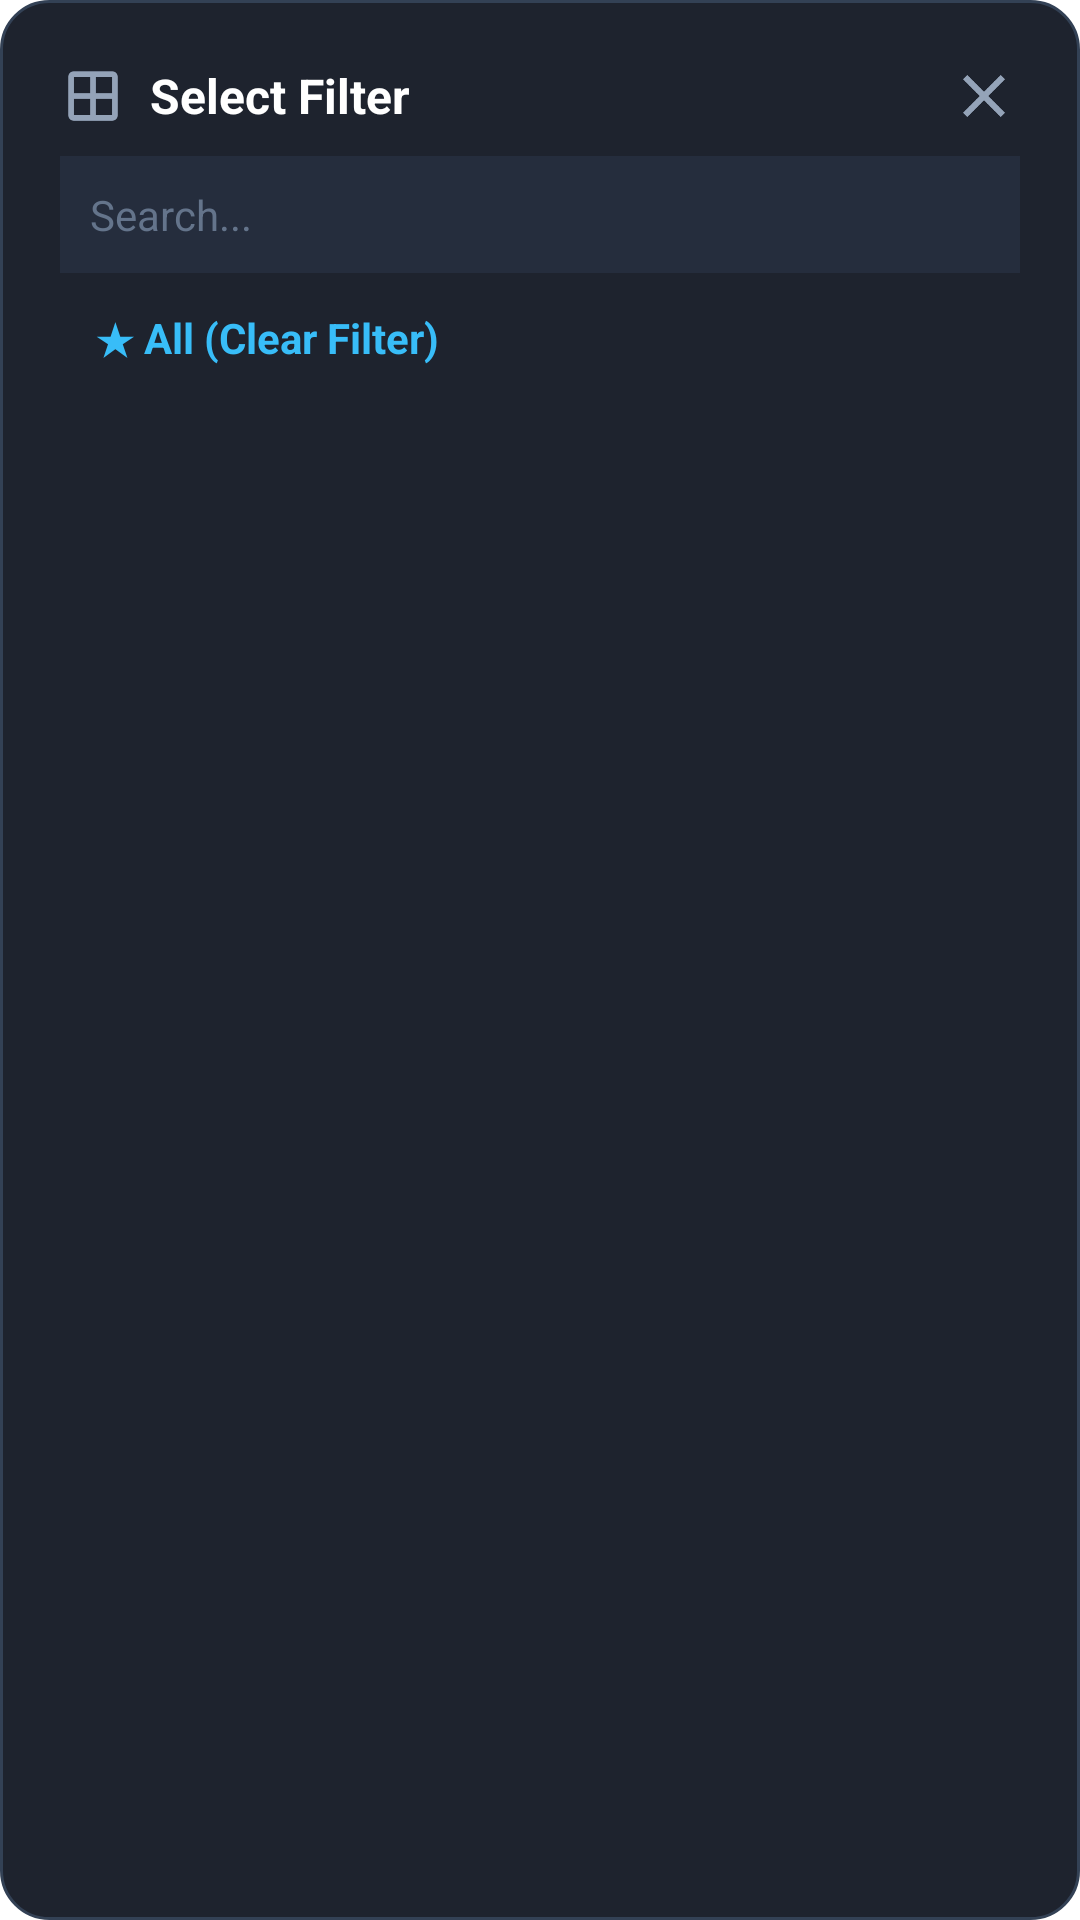

Point at icon controls on the screen. Image size 1080px x 1920px, points as (x,y).
Close: (984,96)
